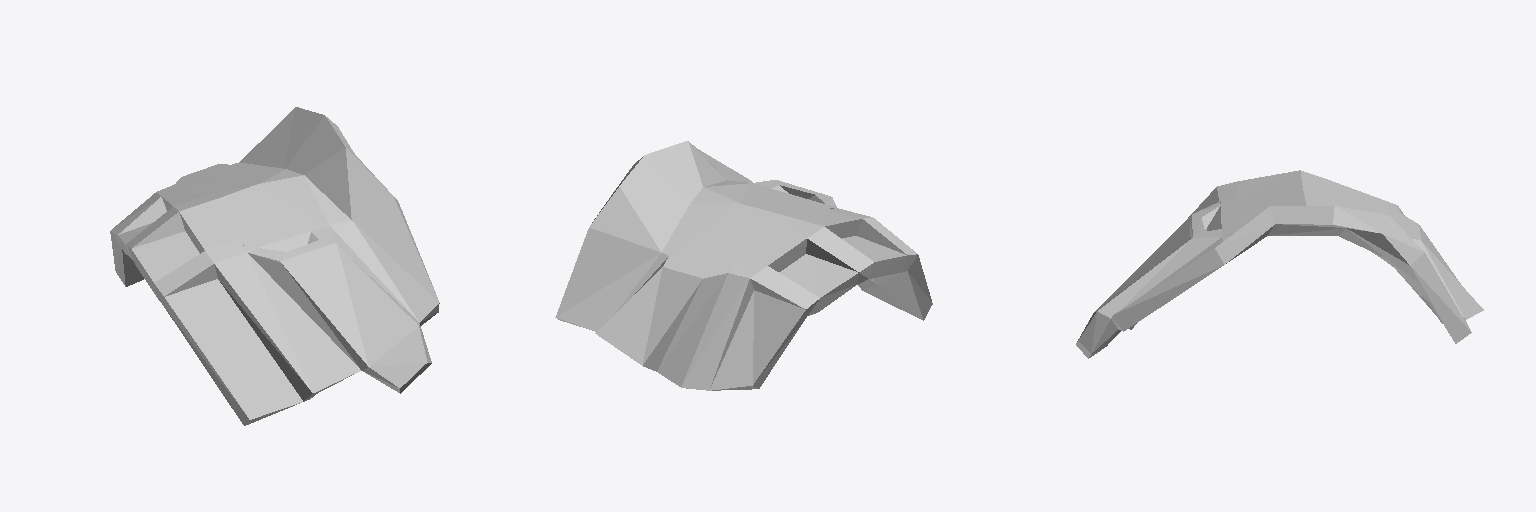
The model's file is Shoulder armor right.obj.
3 renders of one model, left to right at view 1: azimuth 30°, elevation 25°; view 2: azimuth 150°, elevation 25°; view 3: azimuth 270°, elevation 25°, orthographic.
Parts seen in each view (by area): view 1: Plane.001; view 2: Plane.001; view 3: Plane.001.
Boxes of the visible parts, x1,y1,x2,y2 form: Plane.001: [110, 107, 439, 425]; Plane.001: [555, 141, 932, 390]; Plane.001: [1076, 170, 1483, 358].
Bounding box in the file's own units: 0.3759 × 0.2887 × 0.5497.